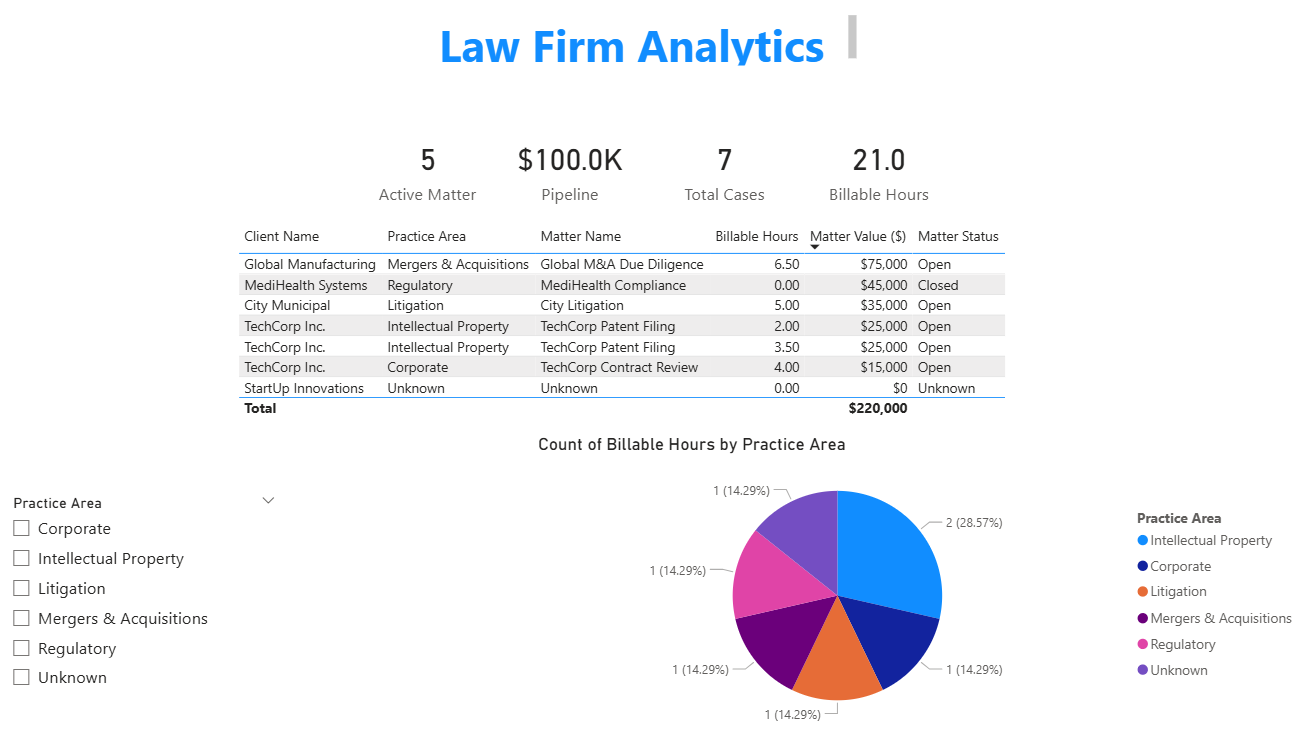

This screenshot's page, from the dashboard's own definition file:
{"tool":"powerbi","page":{"name":"Page 1","canvas":[1280,720],"ordinal":0},"visuals":[{"type":"card","fields":{"Values":["CountNonNull(Matter.Matter ID)"]},"box":[350,118.9,150.8,100.2],"z":0,"group":"g1"},{"type":"card","fields":{"Values":["Sum(Dashboard Data.Pipeline Value ($)\")"]},"box":[489.1,118.9,149.8,100.2],"z":1,"group":"g1"},{"type":"card","fields":{"Values":["Sum(Dashboard Data.Billable Hours)"]},"box":[789.6,118.9,149.8,100.2],"z":2,"group":"g1"},{"type":"card","fields":{"Values":["CountNonNull(Dashboard Data.Client Name)"]},"box":[638.9,118.9,150.8,100.2],"z":3,"group":"g1"},{"type":"tableEx","fields":{"Values":["Dashboard Data.Client Name","Dashboard Data.Practice Area","Dashboard Data.Matter Name","Dashboard Data.Billable Hours","Sum(Dashboard Data.Matter Value ($))","Dashboard Data.Matter Status"]},"box":[236.7,218.9,803.3,207.8],"z":4},{"type":"pieChart","fields":{"Category":["Dashboard Data.Practice Area"],"Y":["CountNonNull(Dashboard Data.Billable Hours)"]},"box":[527.8,426.7,752.2,293.3],"z":5},{"type":"slicer","fields":{"Values":["Dashboard Data.Practice Area"]},"box":[10,480,280,240],"z":6},{"type":"textbox","box":[432.2,14.4,415.6,58.9],"z":7},{"type":"group","id":"g1","title":"Group 1","box":[350,118.9,590,100],"z":8}]}

Visuals, with their boxes in screenshot pixels (x1, y1, x2, y2), scaled from the page's 1280x720 canvas onto the 1306x734 screenshot:
card - CountNonNull(Matter.Matter ID): left=357, top=121, right=511, bottom=223
card - Sum(Dashboard Data.Pipeline Value ($)"): left=499, top=121, right=652, bottom=223
card - Sum(Dashboard Data.Billable Hours): left=806, top=121, right=958, bottom=223
card - CountNonNull(Dashboard Data.Client Name): left=652, top=121, right=806, bottom=223
tableEx - Dashboard Data.Client Name x Dashboard Data.Practice Area: left=242, top=223, right=1061, bottom=435
pieChart - Dashboard Data.Practice Area x CountNonNull(Dashboard Data.Billable Hours): left=539, top=435, right=1305, bottom=733
slicer - Dashboard Data.Practice Area: left=10, top=489, right=296, bottom=733
textbox: left=441, top=15, right=865, bottom=75
"Group 1" group: left=357, top=121, right=959, bottom=223
